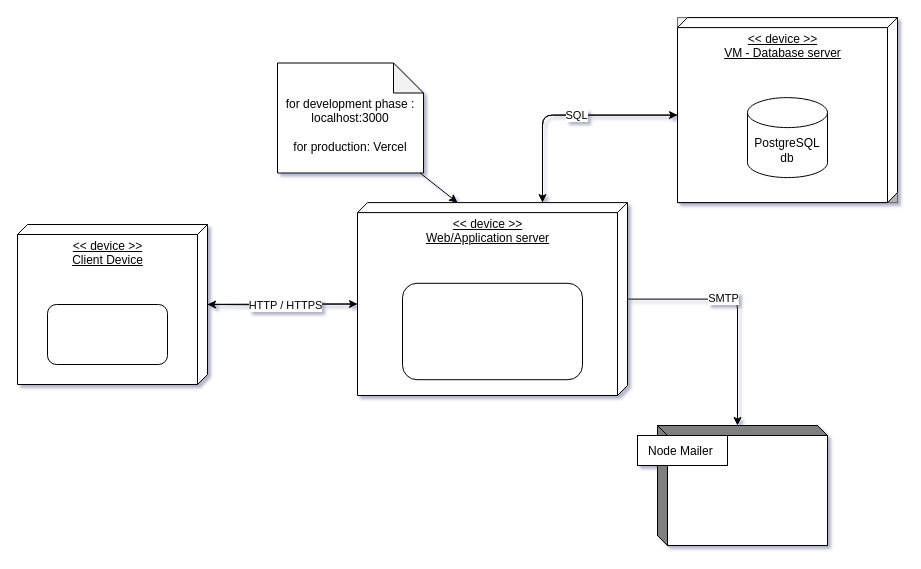
This 921x569 diagram has some shape labels left out. Each missing label, with the centre of its shape:
<< artifact >> Next.js SSR / SSG App: pixel 492 331
<< artifact >> Website: pixel 107 334
<< external device >>: pixel 742 485
